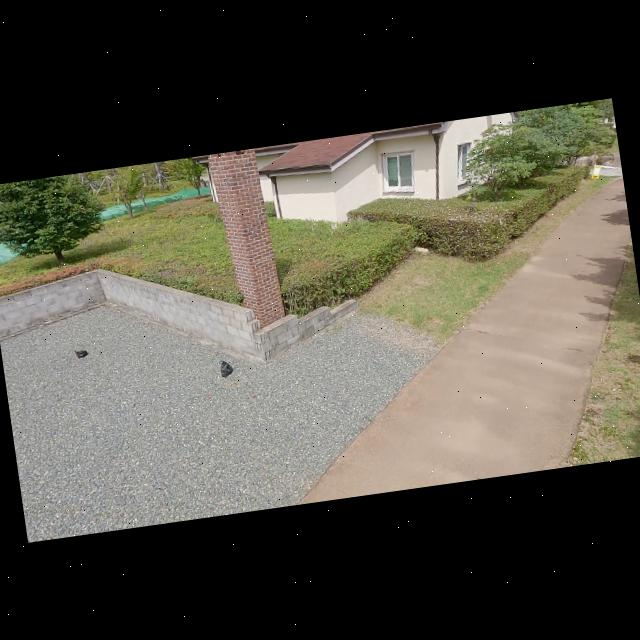trash: (216, 356, 236, 378), (74, 348, 90, 360)
